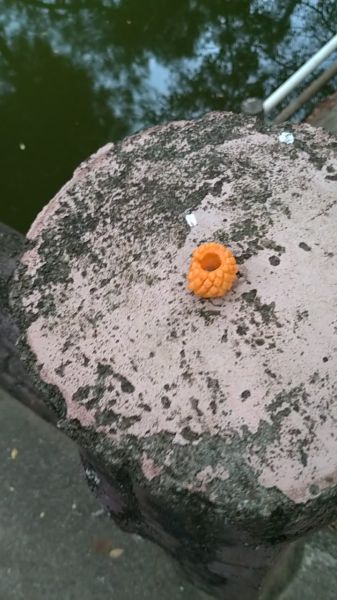eggs: (182, 239, 241, 302)
